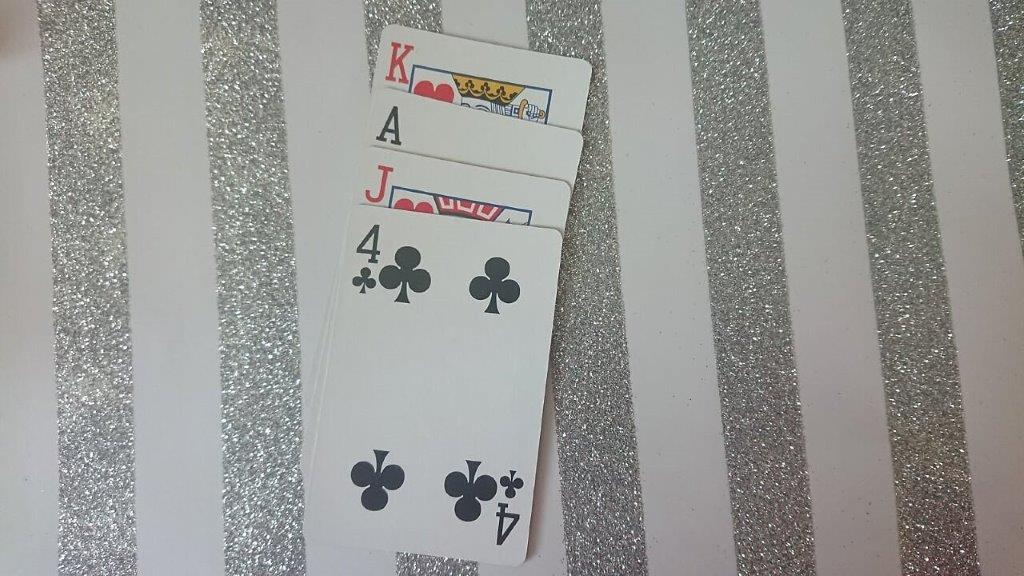4C: (301, 202, 565, 567)
JH: (355, 143, 572, 212)
KH: (377, 21, 597, 100)
